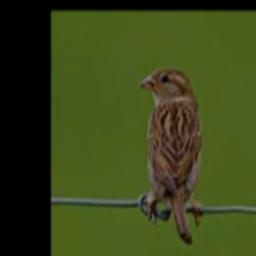Sparrow: (139, 66, 201, 243)
